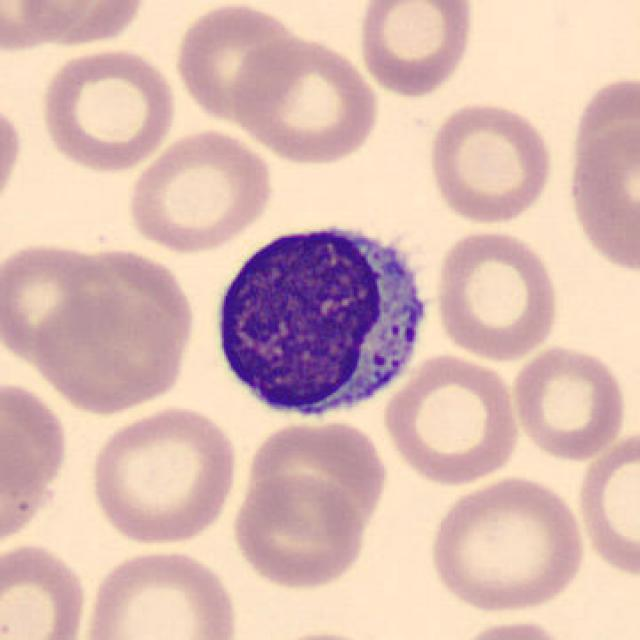Lymphocyte: (201, 210, 439, 426)
RBC: (423, 472, 589, 616), (28, 279, 194, 416), (85, 402, 240, 548), (125, 125, 278, 256), (230, 34, 382, 165), (380, 349, 522, 488), (36, 44, 180, 175), (240, 416, 391, 540), (430, 226, 562, 363), (423, 97, 557, 227), (228, 469, 370, 591), (170, 2, 308, 125), (78, 545, 242, 640), (0, 236, 119, 365), (507, 340, 629, 464), (562, 115, 640, 276), (353, 0, 478, 100), (0, 372, 71, 545), (572, 423, 640, 582), (0, 537, 90, 640), (583, 76, 640, 220), (16, 0, 151, 49), (0, 0, 89, 55), (0, 95, 25, 217), (446, 617, 576, 640)
